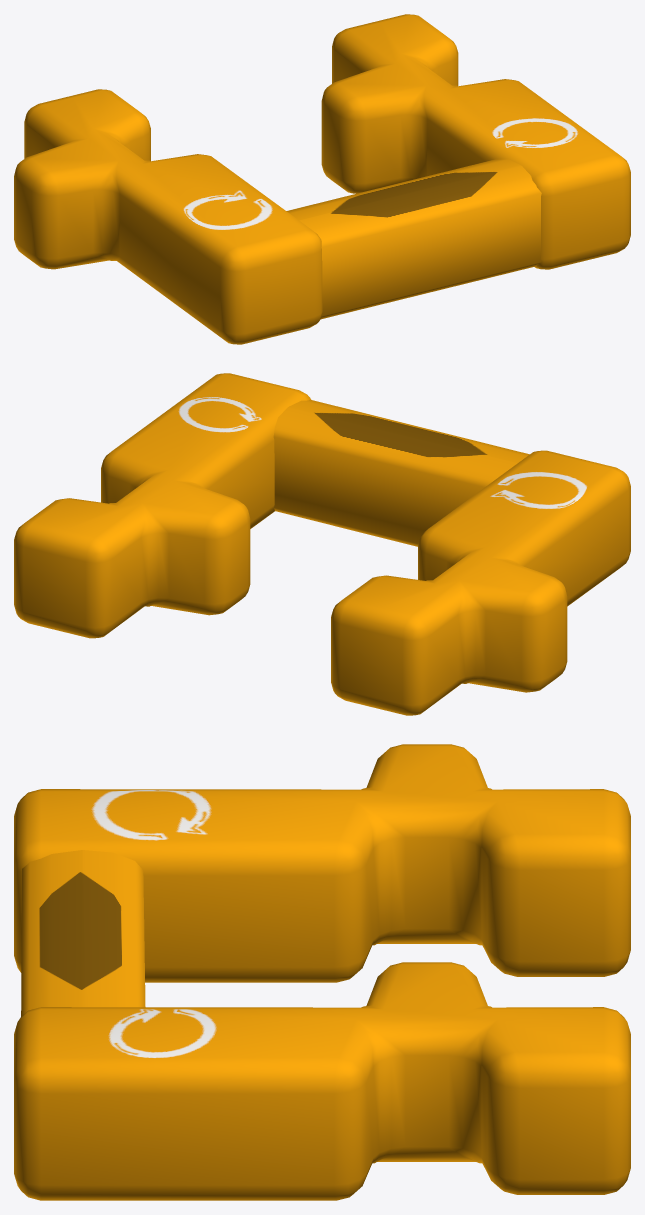
Rendered from bloqueControl.fbx.
The picture shows the model from 3 angles, top to bottom: view 1: azimuth 30°, elevation 25°; view 2: azimuth 150°, elevation 25°; view 3: azimuth 270°, elevation 25°; orthographic projection. The views are drawn at different scales.
Parts seen in each view (by area): view 1: BloqueBucle.001, BloqueBucle, BloqueBucle.002; view 2: BloqueBucle.001, BloqueBucle, BloqueBucle.002; view 3: BloqueBucle, BloqueBucle.001, BloqueBucle.002.
Boxes of the visible parts, box(x1,y1,x2,y2) form: BloqueBucle.001: box(14, 89, 322, 344); BloqueBucle: box(321, 14, 630, 269); BloqueBucle.002: box(286, 159, 541, 319); BloqueBucle.001: box(331, 450, 630, 715); BloqueBucle: box(14, 373, 311, 638); BloqueBucle.002: box(273, 400, 529, 546); BloqueBucle: box(14, 962, 630, 1200); BloqueBucle.001: box(14, 744, 630, 982); BloqueBucle.002: box(21, 850, 145, 1016).
Size of the model in its own units: 325 by 63.79 by 254.
